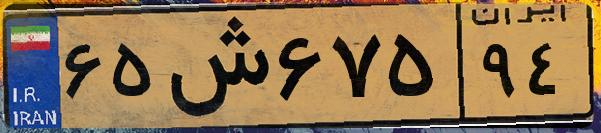4: (525, 38, 570, 115)
5: (385, 28, 445, 110), (110, 28, 158, 98)
6: (270, 28, 330, 110), (57, 26, 110, 100)
7: (330, 28, 385, 110)
9: (475, 38, 525, 113)
ش: (158, 12, 270, 120)
